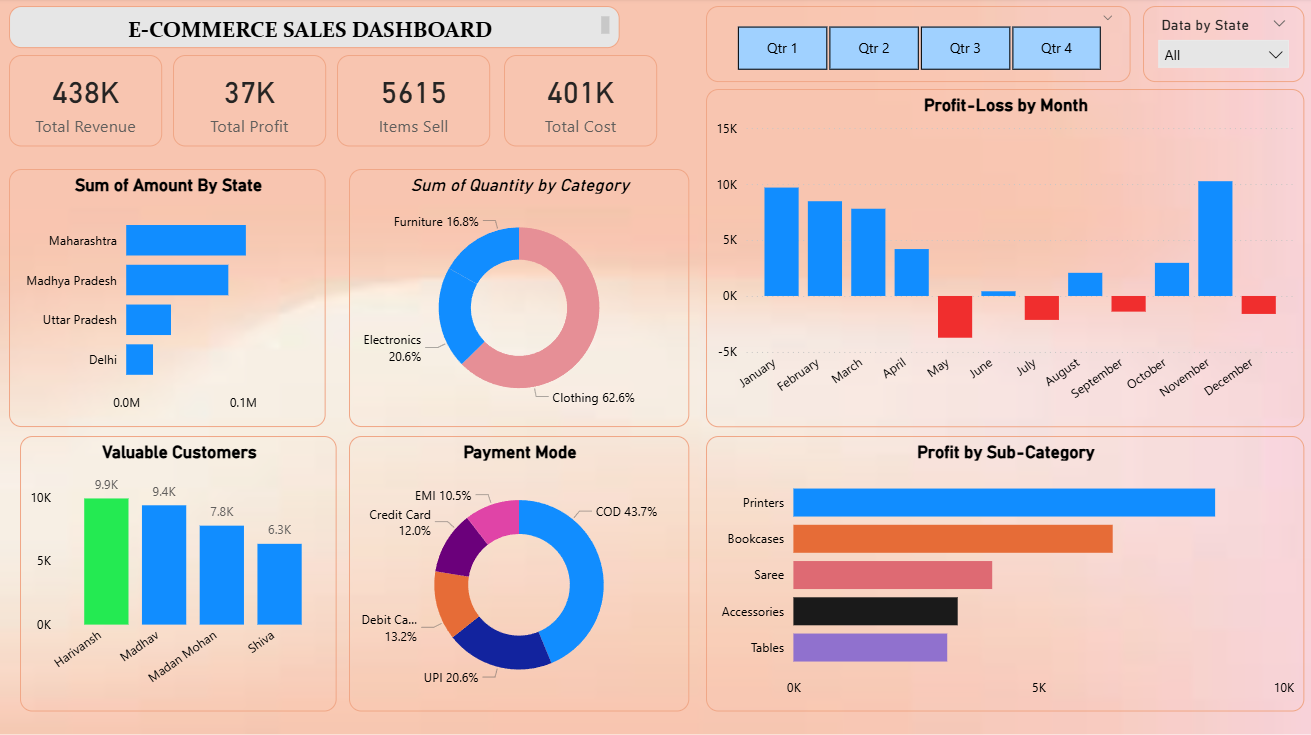

The dashboard page shown, as its layout file describes it:
{"tool":"powerbi","page":{"name":"Page 1","canvas":[1280,720],"ordinal":0},"visuals":[{"type":"textbox","box":[9.7,7.8,594.3,40.9],"z":0},{"type":"columnChart","title":"Profit-Loss by Month","fields":{"Y":["Sum(DETAILS.Profit)"],"Category":["Orders.Order Date.Variation.Date Hierarchy.Month"]},"box":[687.7,88.5,581.6,328.8],"z":1000},{"type":"clusteredBarChart","title":"Profit by Sub-Category","fields":{"Category":["DETAILS.Sub-Category"],"Y":["Sum(DETAILS.Profit)"]},"box":[687.7,426,581.6,268.4],"z":2000},{"type":"donutChart","title":"Sum of Quantity by Category","fields":{"Category":["DETAILS.Category"],"Y":["Sum(DETAILS.Quantity)"]},"box":[340.4,166.3,330.7,250.9],"z":3000},{"type":"donutChart","title":"Payment Mode","fields":{"Y":["Sum(DETAILS.Quantity)"],"Category":["DETAILS.PaymentMode"]},"box":[340.4,426,330.7,268.4],"z":4000},{"type":"card","fields":{"Values":["Sum(DETAILS.Amount)"]},"box":[9.7,55.4,148.8,89.5],"z":5000},{"type":"card","fields":{"Values":["Sum(DETAILS.Quantity)"]},"box":[328.8,55.4,148.8,89.5],"z":6000},{"type":"card","fields":{"Values":["Sum(DETAILS.Profit)"]},"box":[169.2,55.4,148.8,89.5],"z":7000},{"type":"card","fields":{"Values":["Sum(DETAILS.Cost)"]},"box":[491.2,55.4,148.8,89.5],"z":8000},{"type":"clusteredBarChart","title":"Sum of Amount By State","fields":{"Category":["Orders.State"],"Y":["Sum(DETAILS.Amount)"]},"box":[9.7,166.3,308.3,250.9],"z":9000},{"type":"columnChart","title":"Valuable Customers","fields":{"Category":["Orders.CustomerName"],"Y":["Sum(DETAILS.Amount)"]},"box":[20.4,426,308.3,268.4],"z":10000},{"type":"slicer","fields":{"Values":["Orders.Order Date.Variation.Date Hierarchy.Quarter"]},"box":[687.7,7.8,413.4,73.9],"z":11000},{"type":"slicer","fields":{"Values":["Orders.State"]},"box":[1112.7,7.8,156.6,73.9],"z":12000}]}

Visuals, with their boxes in screenshot pixels (x1, y1, x2, y2), scaled from the page's 1280x720 canvas onto the 1311x735 screenshot:
textbox: pyautogui.locateOnScreen(10, 8, 619, 50)
"Profit-Loss by Month" columnChart: pyautogui.locateOnScreen(704, 90, 1300, 426)
"Profit by Sub-Category" clusteredBarChart: pyautogui.locateOnScreen(704, 435, 1300, 709)
"Sum of Quantity by Category" donutChart: pyautogui.locateOnScreen(349, 170, 687, 426)
"Payment Mode" donutChart: pyautogui.locateOnScreen(349, 435, 687, 709)
card - Sum(DETAILS.Amount): pyautogui.locateOnScreen(10, 57, 162, 148)
card - Sum(DETAILS.Quantity): pyautogui.locateOnScreen(337, 57, 489, 148)
card - Sum(DETAILS.Profit): pyautogui.locateOnScreen(173, 57, 326, 148)
card - Sum(DETAILS.Cost): pyautogui.locateOnScreen(503, 57, 656, 148)
"Sum of Amount By State" clusteredBarChart: pyautogui.locateOnScreen(10, 170, 326, 426)
"Valuable Customers" columnChart: pyautogui.locateOnScreen(21, 435, 337, 709)
slicer - Orders.Order Date.Variation.Date Hierarchy.Quarter: pyautogui.locateOnScreen(704, 8, 1128, 83)
slicer - Orders.State: pyautogui.locateOnScreen(1140, 8, 1300, 83)
